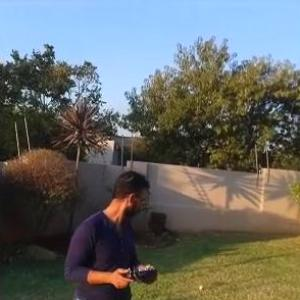follow: (59, 164, 161, 299)
